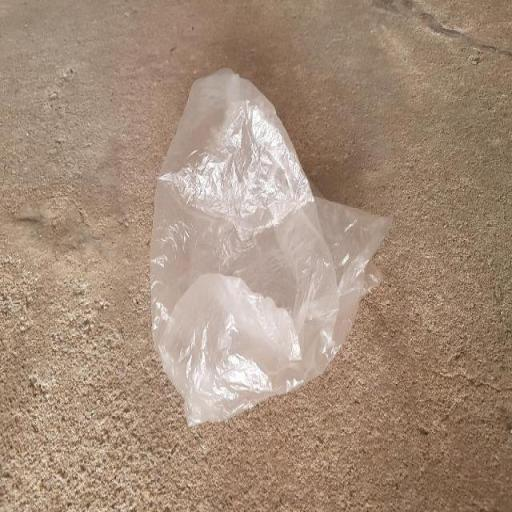plastic-bag: (148, 70, 397, 428)
